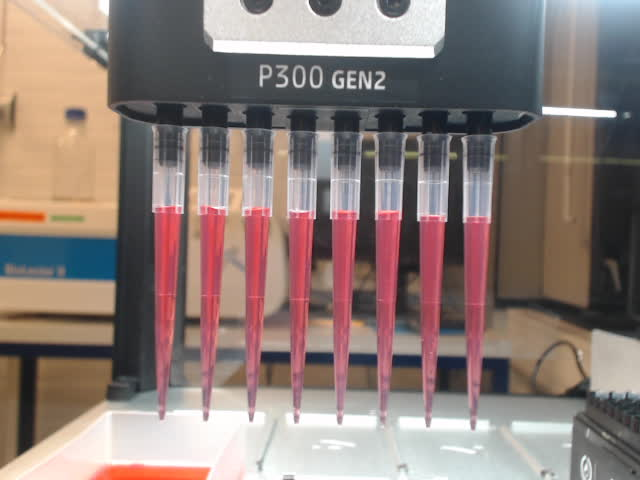Liquid: (241, 205, 276, 425), (151, 202, 186, 421), (461, 213, 495, 433), (285, 206, 318, 426), (327, 207, 360, 427), (372, 206, 404, 429), (416, 210, 447, 431), (198, 205, 229, 422)
Tip: (457, 132, 500, 434), (369, 129, 412, 429), (149, 122, 191, 422), (414, 133, 455, 431), (326, 129, 367, 426), (195, 125, 234, 424), (285, 127, 323, 427), (239, 126, 277, 425)
